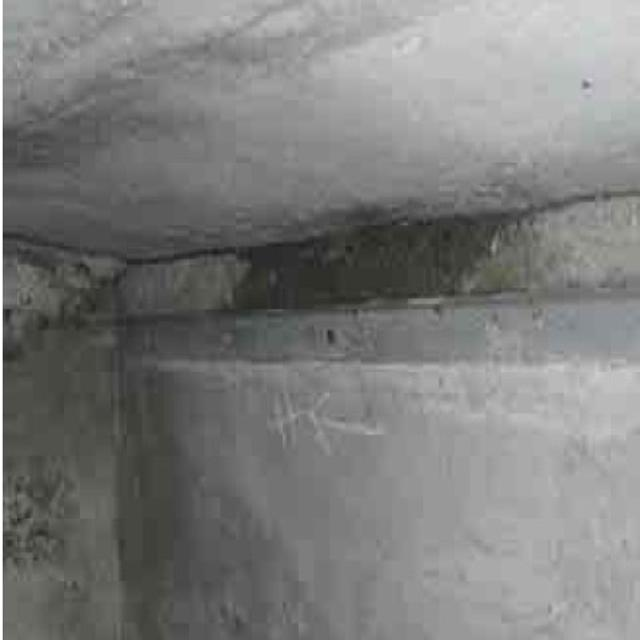leakage: (222, 230, 528, 321)
